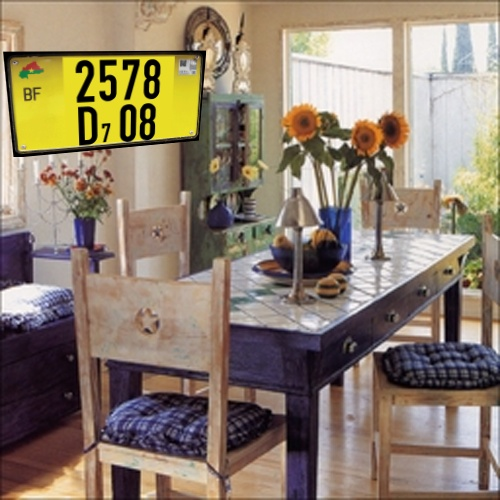plate: (1, 36, 213, 170)
